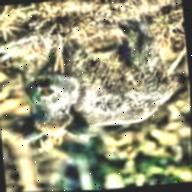boar: (1, 13, 188, 156)
